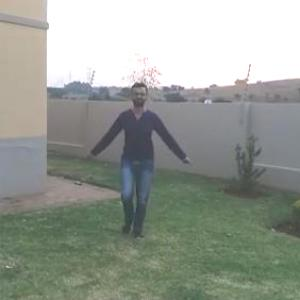land: (94, 89, 183, 216)
